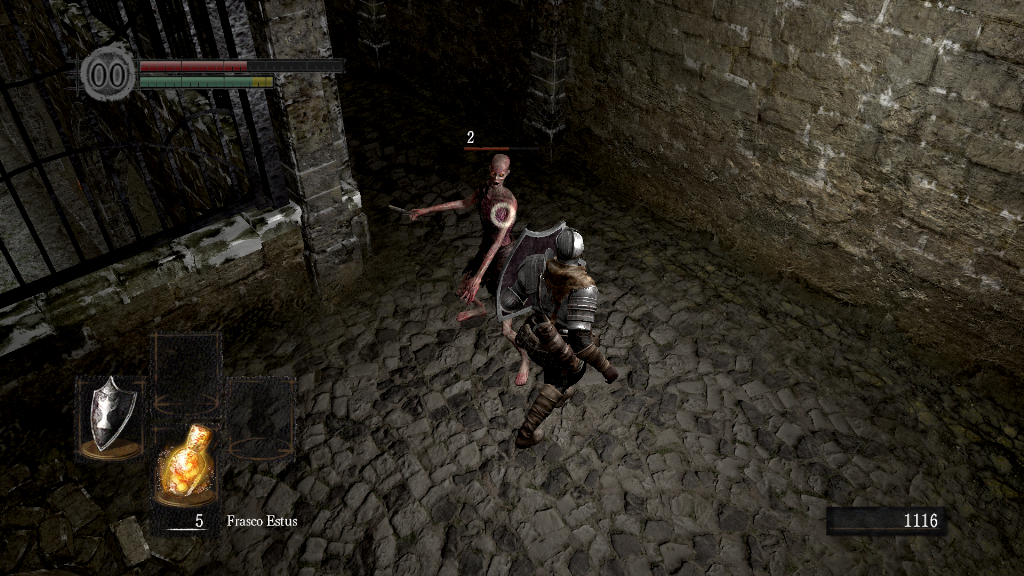health: (138, 58, 343, 71)
hollow: (410, 154, 533, 392)
humanity: (80, 45, 136, 102)
player: (497, 219, 618, 447)
souls: (825, 506, 945, 536)
stamina: (138, 74, 274, 88)
